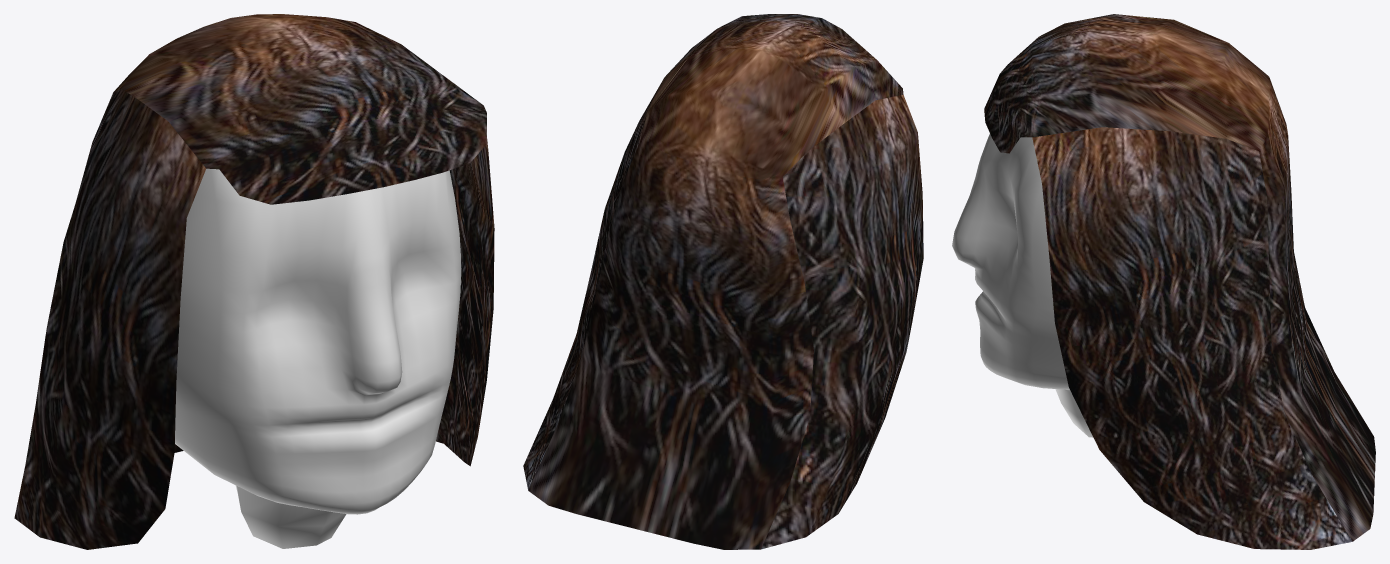
The model's file is SM_Arlend_00_Head.fbx.
The picture shows the model from 3 angles, left to right: view 1: azimuth 30°, elevation 25°; view 2: azimuth 150°, elevation 25°; view 3: azimuth 270°, elevation 25°; orthographic projection. The views are drawn at different scales.
Parts seen in each view (by area): view 1: SM_Arlend_00_Head; view 2: SM_Arlend_00_Head; view 3: SM_Arlend_00_Head.
Boxes of the visible parts, x1,y1,x2,y2 form: SM_Arlend_00_Head: [14, 14, 494, 549]; SM_Arlend_00_Head: [523, 14, 923, 549]; SM_Arlend_00_Head: [952, 14, 1375, 549].
Size of the model in its own units: 51.86 by 63.92 by 56.05.
